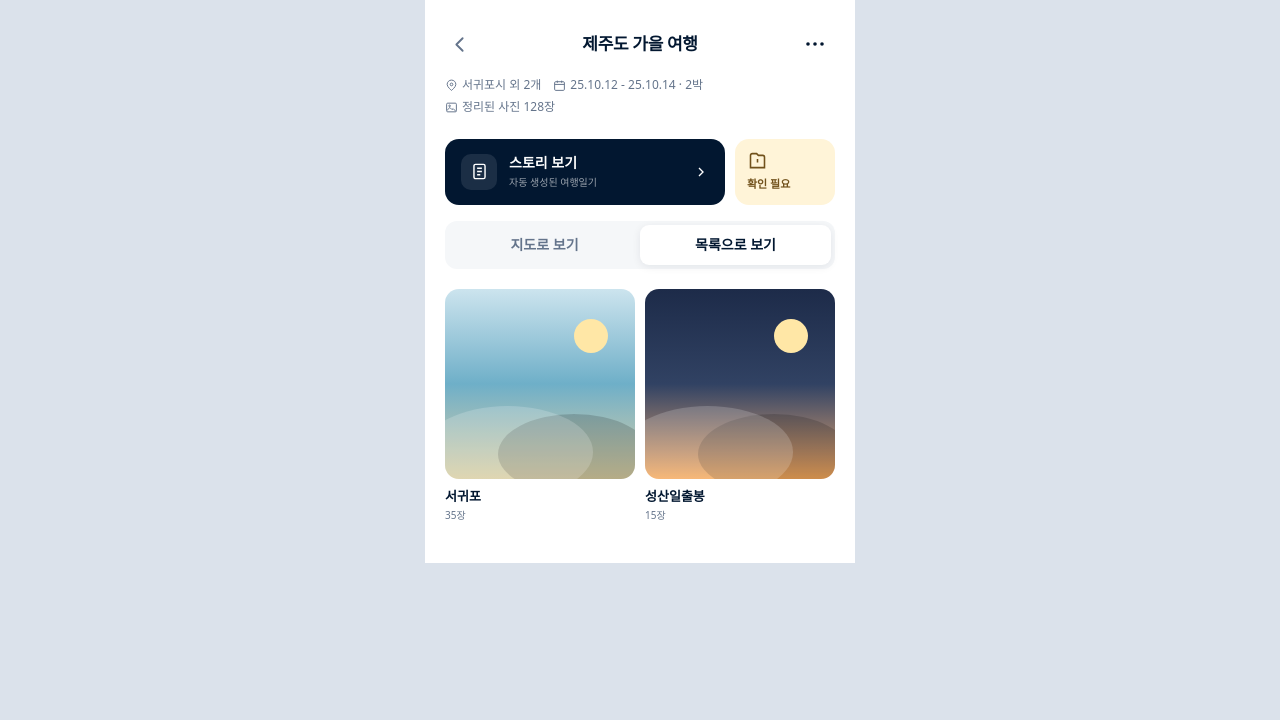
Scenario: TripDetailPage › 더보기 메뉴에서 여행 삭제를 누르면 확인 창을 표시한다
Click the button named "여행 더보기 메뉴" at [815, 44], box [795,24,835,64]
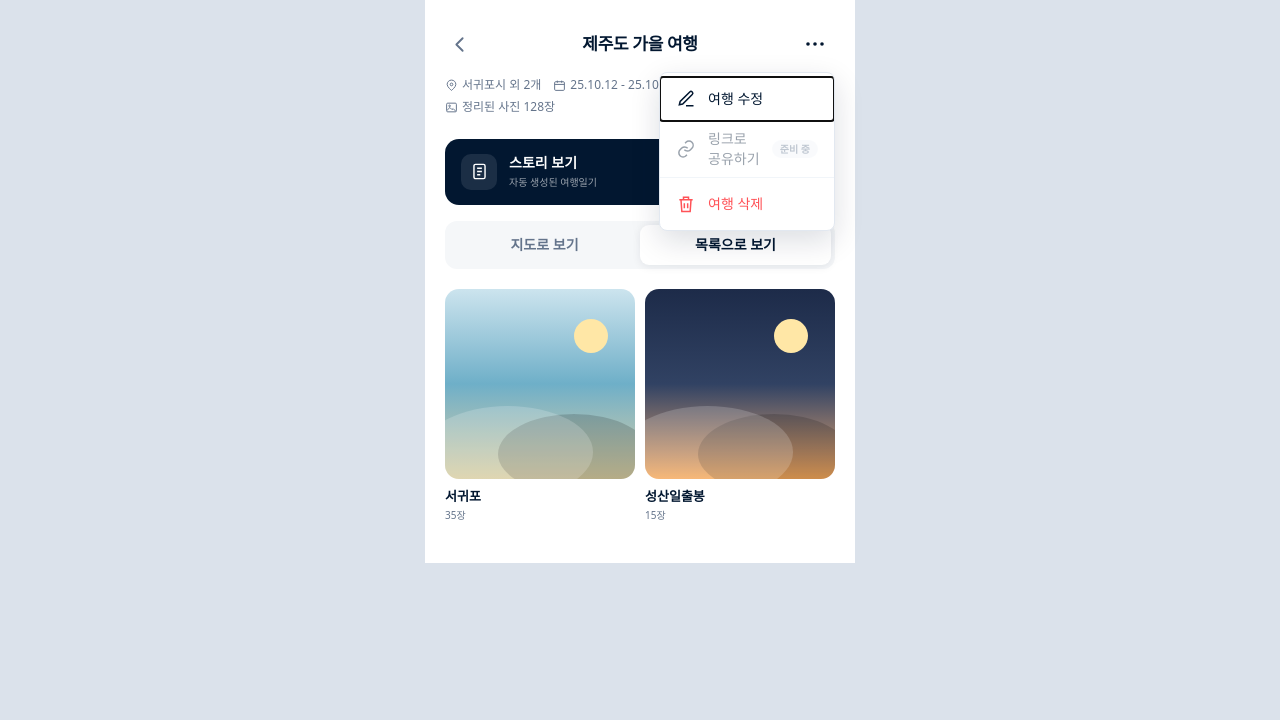
Click the menu item "여행 삭제" at [747, 204], box [660,182,834,226]
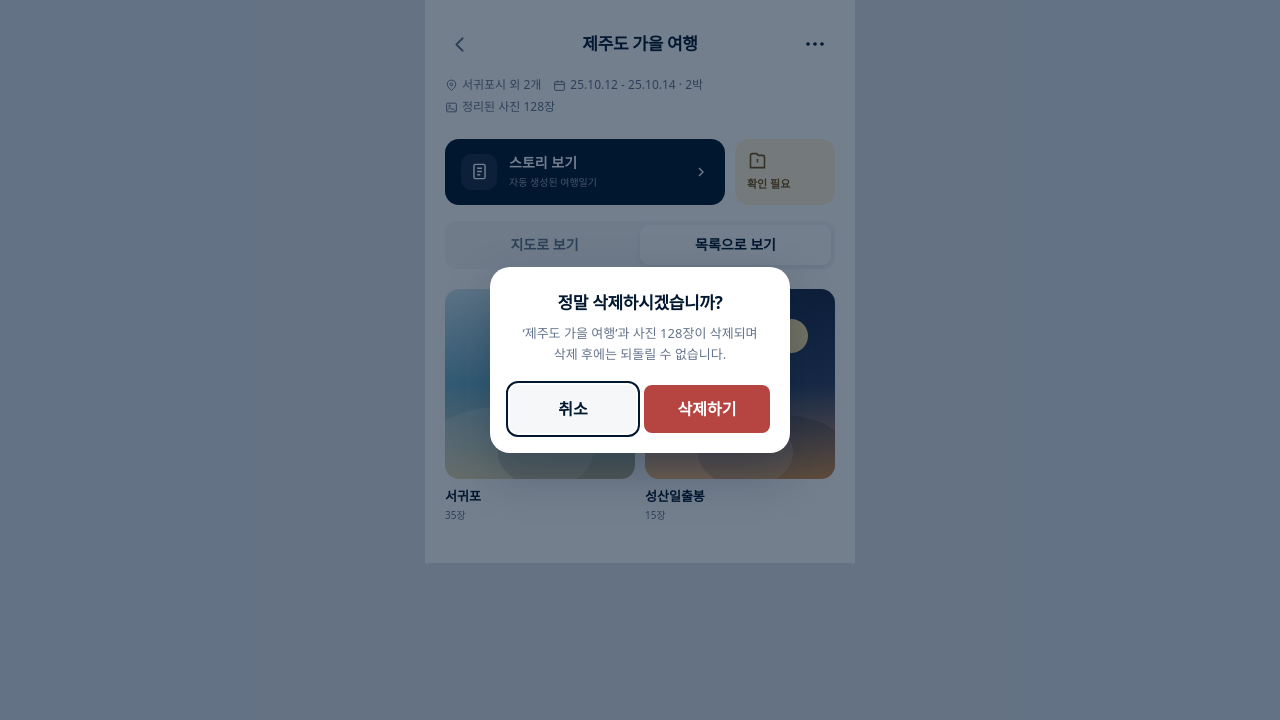
Result: the dialog "정말 삭제하시겠습니까?" is shown at [490,267,790,453]
Result: the text "사진 128장이 삭제되며" is shown at [510,323,770,365]
